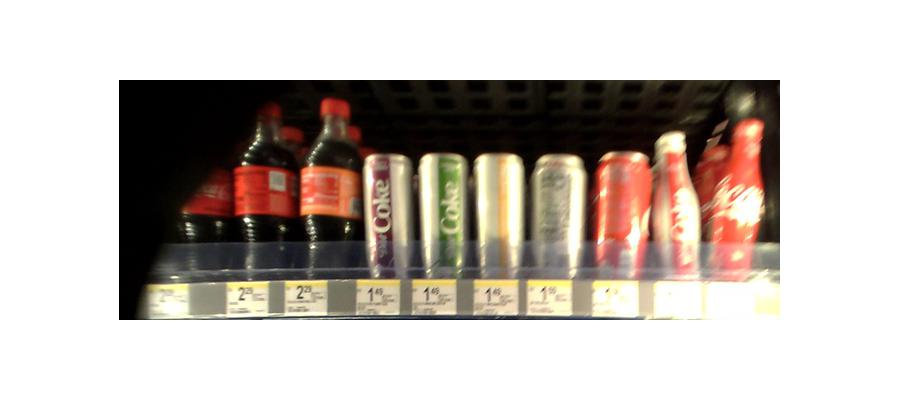bottle: (299, 95, 360, 281), (235, 96, 297, 278), (702, 108, 766, 275), (176, 129, 232, 279), (592, 148, 652, 279), (530, 153, 588, 280), (654, 131, 703, 277), (473, 152, 529, 277), (415, 155, 470, 278), (362, 153, 412, 280)
